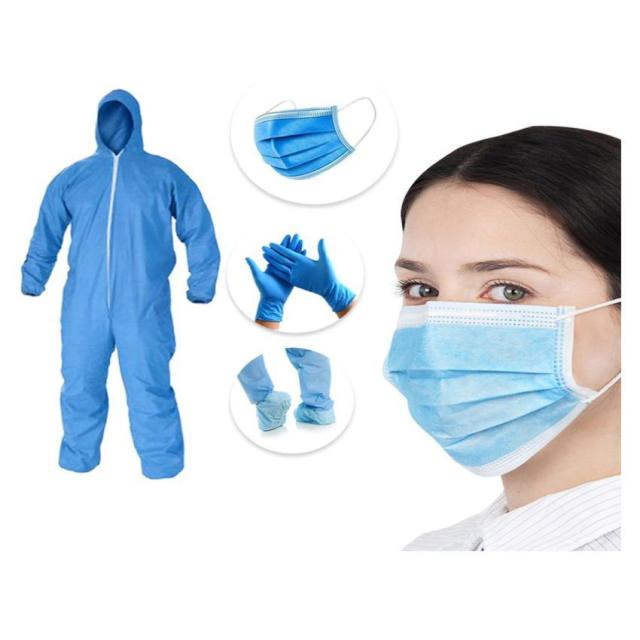Coverall: (10, 74, 219, 484)
Gloves: (237, 231, 352, 331)
Mask: (384, 279, 640, 484), (241, 89, 394, 187)
